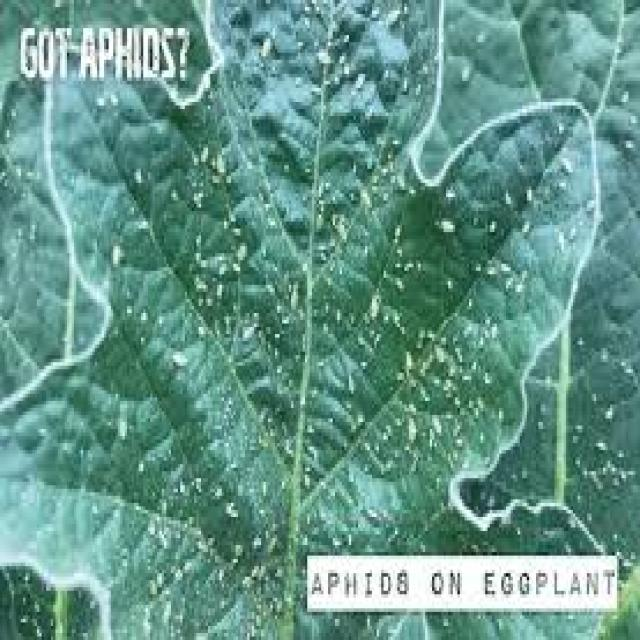aphid: (259, 524, 282, 559), (425, 404, 446, 440), (164, 341, 187, 373), (141, 566, 162, 601), (397, 338, 416, 376), (226, 531, 248, 563), (228, 232, 250, 264), (104, 232, 122, 271), (400, 404, 418, 443), (111, 412, 132, 443), (171, 468, 192, 499), (234, 316, 256, 344), (272, 302, 294, 330), (210, 556, 229, 587), (437, 268, 458, 296), (187, 222, 208, 250), (340, 362, 356, 398), (220, 496, 240, 524), (208, 475, 226, 506), (32, 415, 51, 443), (83, 492, 102, 520), (293, 524, 312, 552), (300, 432, 319, 460), (148, 562, 166, 590), (259, 271, 277, 299), (252, 236, 270, 264), (190, 531, 210, 556), (141, 510, 157, 541), (152, 521, 168, 552), (254, 468, 270, 499), (340, 521, 356, 552), (296, 461, 312, 492), (386, 215, 406, 239), (455, 362, 474, 387), (351, 348, 370, 373), (388, 267, 407, 292), (189, 317, 208, 341), (425, 366, 444, 390), (374, 496, 393, 520), (127, 158, 143, 186), (132, 450, 148, 478), (252, 556, 268, 584), (326, 524, 342, 552), (340, 457, 356, 485), (492, 397, 506, 429), (356, 232, 372, 260), (319, 264, 335, 292), (294, 250, 310, 278), (243, 556, 261, 580), (376, 418, 391, 446), (369, 324, 384, 352), (362, 313, 377, 341), (421, 316, 436, 344), (428, 464, 443, 492), (189, 288, 208, 310), (363, 499, 379, 524), (379, 411, 395, 436), (300, 411, 316, 436), (335, 429, 351, 454), (275, 468, 289, 496), (358, 429, 372, 457), (210, 274, 224, 302), (298, 503, 314, 527), (330, 295, 342, 327), (467, 253, 485, 274), (409, 253, 427, 274), (459, 288, 474, 313), (316, 313, 331, 338), (354, 327, 369, 352), (321, 404, 335, 429), (224, 450, 238, 475), (28, 591, 42, 615), (331, 257, 346, 278), (413, 531, 428, 552), (314, 242, 328, 264), (270, 355, 282, 380), (217, 429, 231, 450), (284, 387, 296, 411), (194, 433, 206, 457), (268, 338, 282, 358), (474, 422, 485, 447), (222, 387, 233, 408)
